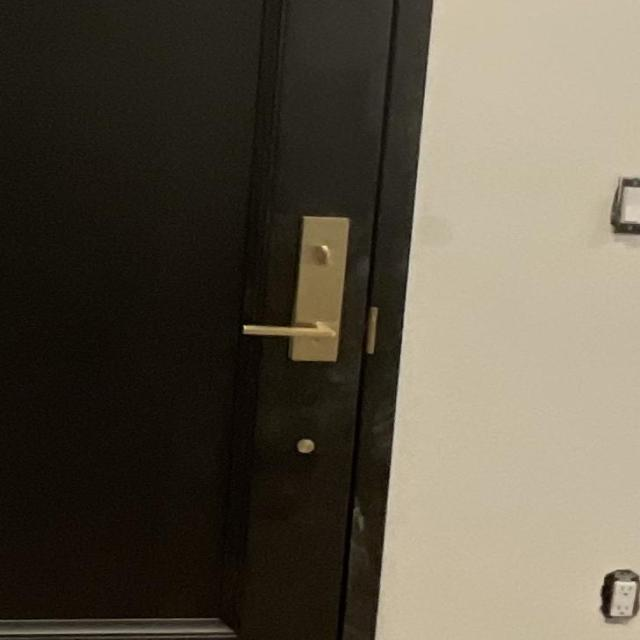door_handle: (233, 309, 357, 352)
